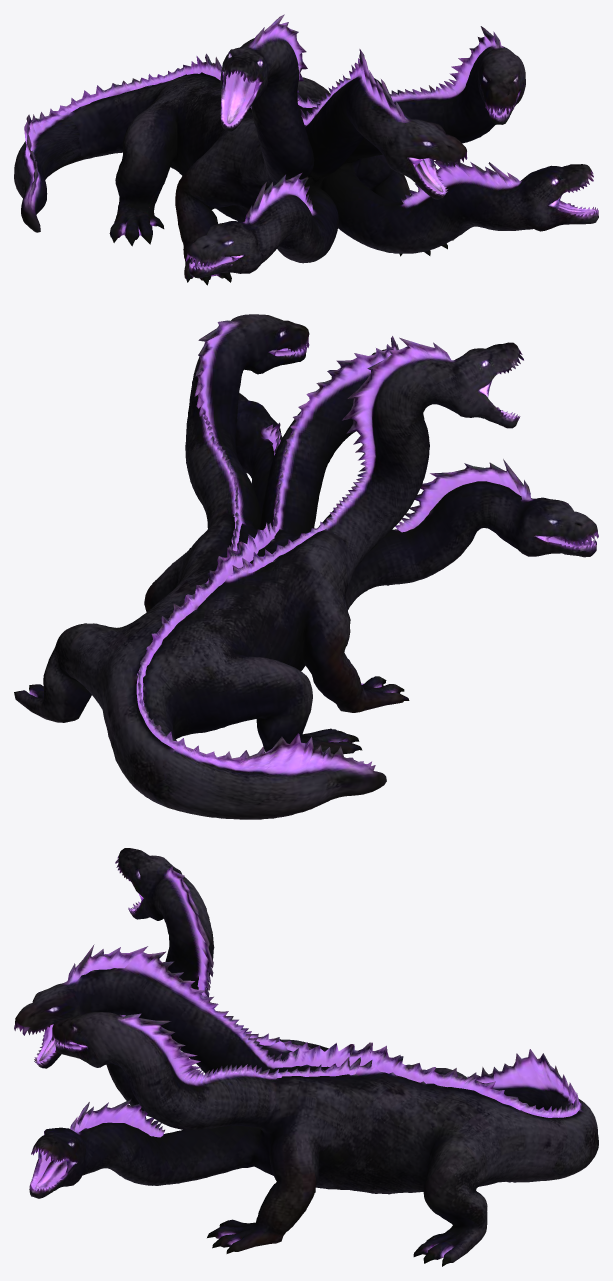
The model's file is MZ4250 - Hydra_abyssal 2025.glb.
3 views of the same model, one above another, from view 1: azimuth 30°, elevation 25°; view 2: azimuth 150°, elevation 25°; view 3: azimuth 270°, elevation 25° (orthographic). The views are drawn at different scales.
Visible parts, largest first — view 1: ORGANIC BASE SPHERE.001; view 2: ORGANIC BASE SPHERE.001; view 3: ORGANIC BASE SPHERE.001.
Part boxes in pixels (box(x1,y1,x2,y2)): ORGANIC BASE SPHERE.001: box(14, 14, 598, 285); ORGANIC BASE SPHERE.001: box(14, 314, 598, 819); ORGANIC BASE SPHERE.001: box(14, 848, 598, 1266).
Size of the model in its own units: 184 by 135 by 249.
Materials: 1 (1 with a texture image).
